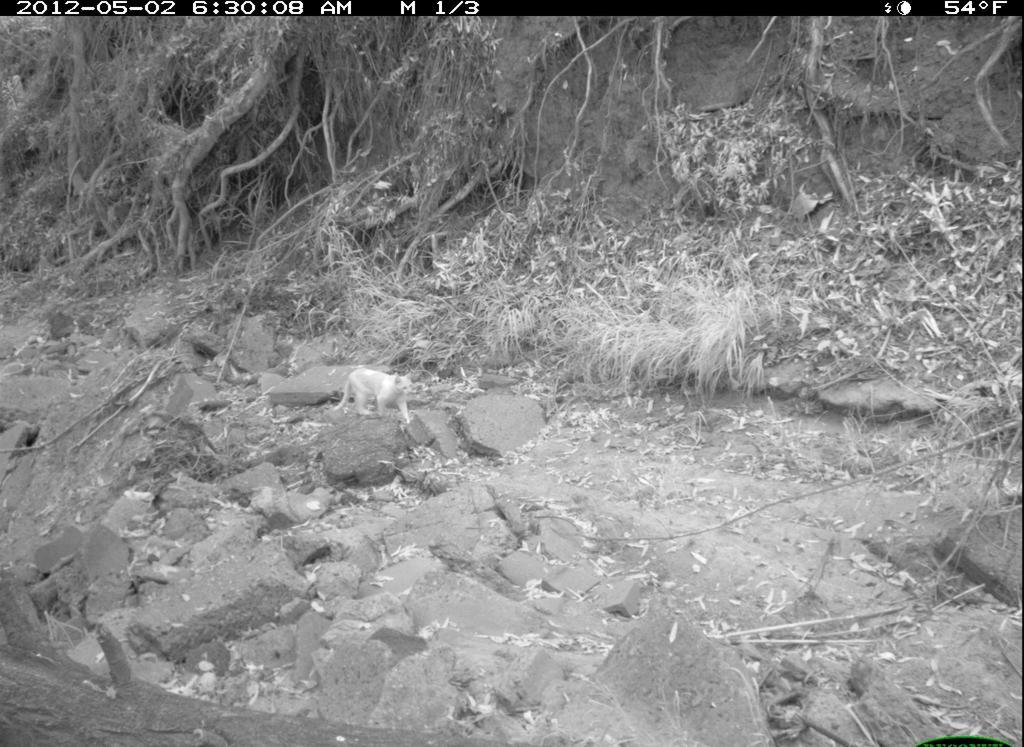cat: (327, 363, 423, 431)
